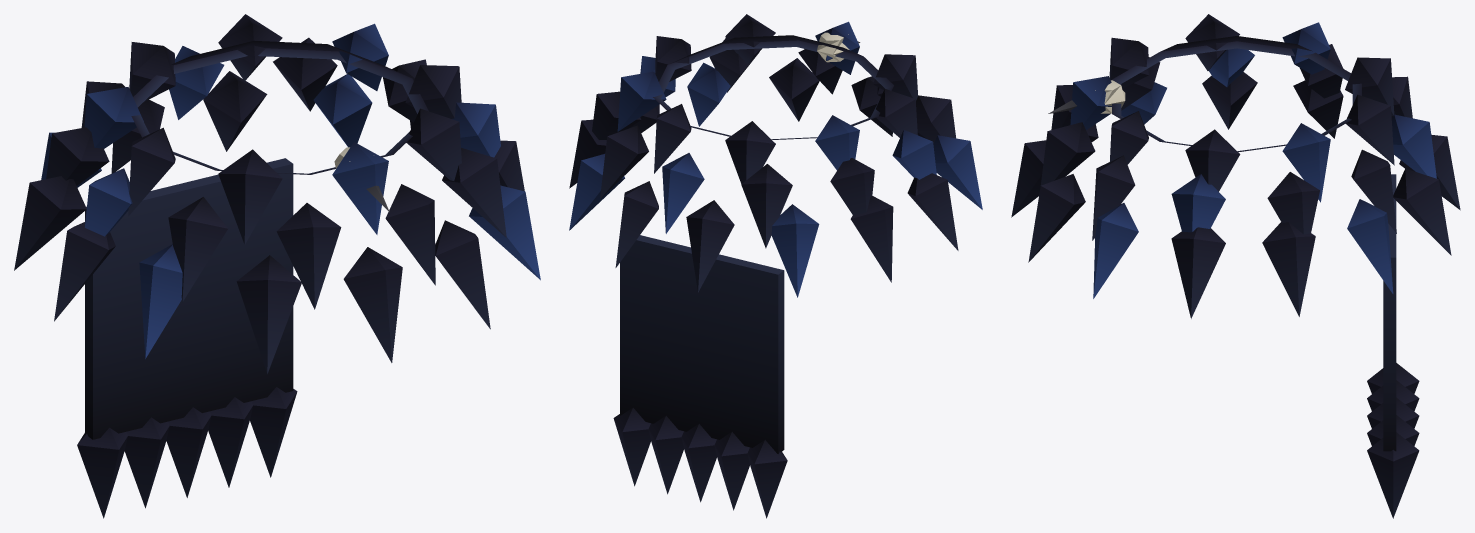
The model's file is lg_corvid_feathercoat.glb.
The picture shows the model from 3 angles, left to right: view 1: azimuth 30°, elevation 25°; view 2: azimuth 150°, elevation 25°; view 3: azimuth 270°, elevation 25°; orthographic projection. The views are drawn at different scales.
Visible parts, largest first — view 1: lg_corvid_feathercoat; view 2: lg_corvid_feathercoat; view 3: lg_corvid_feathercoat.
Boxes of the visible parts, x1=… form: lg_corvid_feathercoat: x1=14, y1=14, x2=540, y2=518; lg_corvid_feathercoat: x1=569, y1=14, x2=982, y2=518; lg_corvid_feathercoat: x1=1011, y1=14, x2=1460, y2=518.
Bounding box in the file's own units: 2.72 × 2.74 × 2.73.
